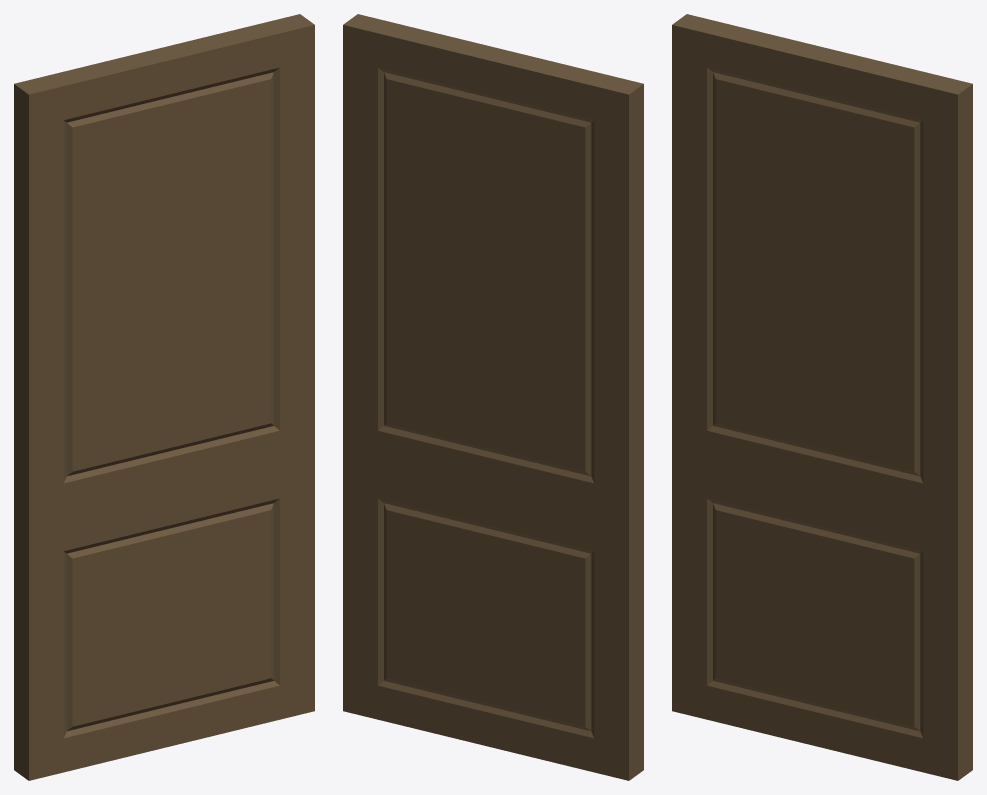
The model's file is Door2_C3.fbx.
3 views of the same model, side by side, from view 1: azimuth 30°, elevation 25°; view 2: azimuth 150°, elevation 25°; view 3: azimuth 330°, elevation 25° (orthographic).
Parts seen in each view (by area): view 1: Door2_C3; view 2: Door2_C3; view 3: Door2_C3.
Part boxes in pixels (left/top/right/bottom): Door2_C3: left=14, top=14, right=314, bottom=780; Door2_C3: left=343, top=14, right=643, bottom=780; Door2_C3: left=672, top=14, right=972, bottom=780.
Bounding box in the file's own units: 89 × 204 × 8.
